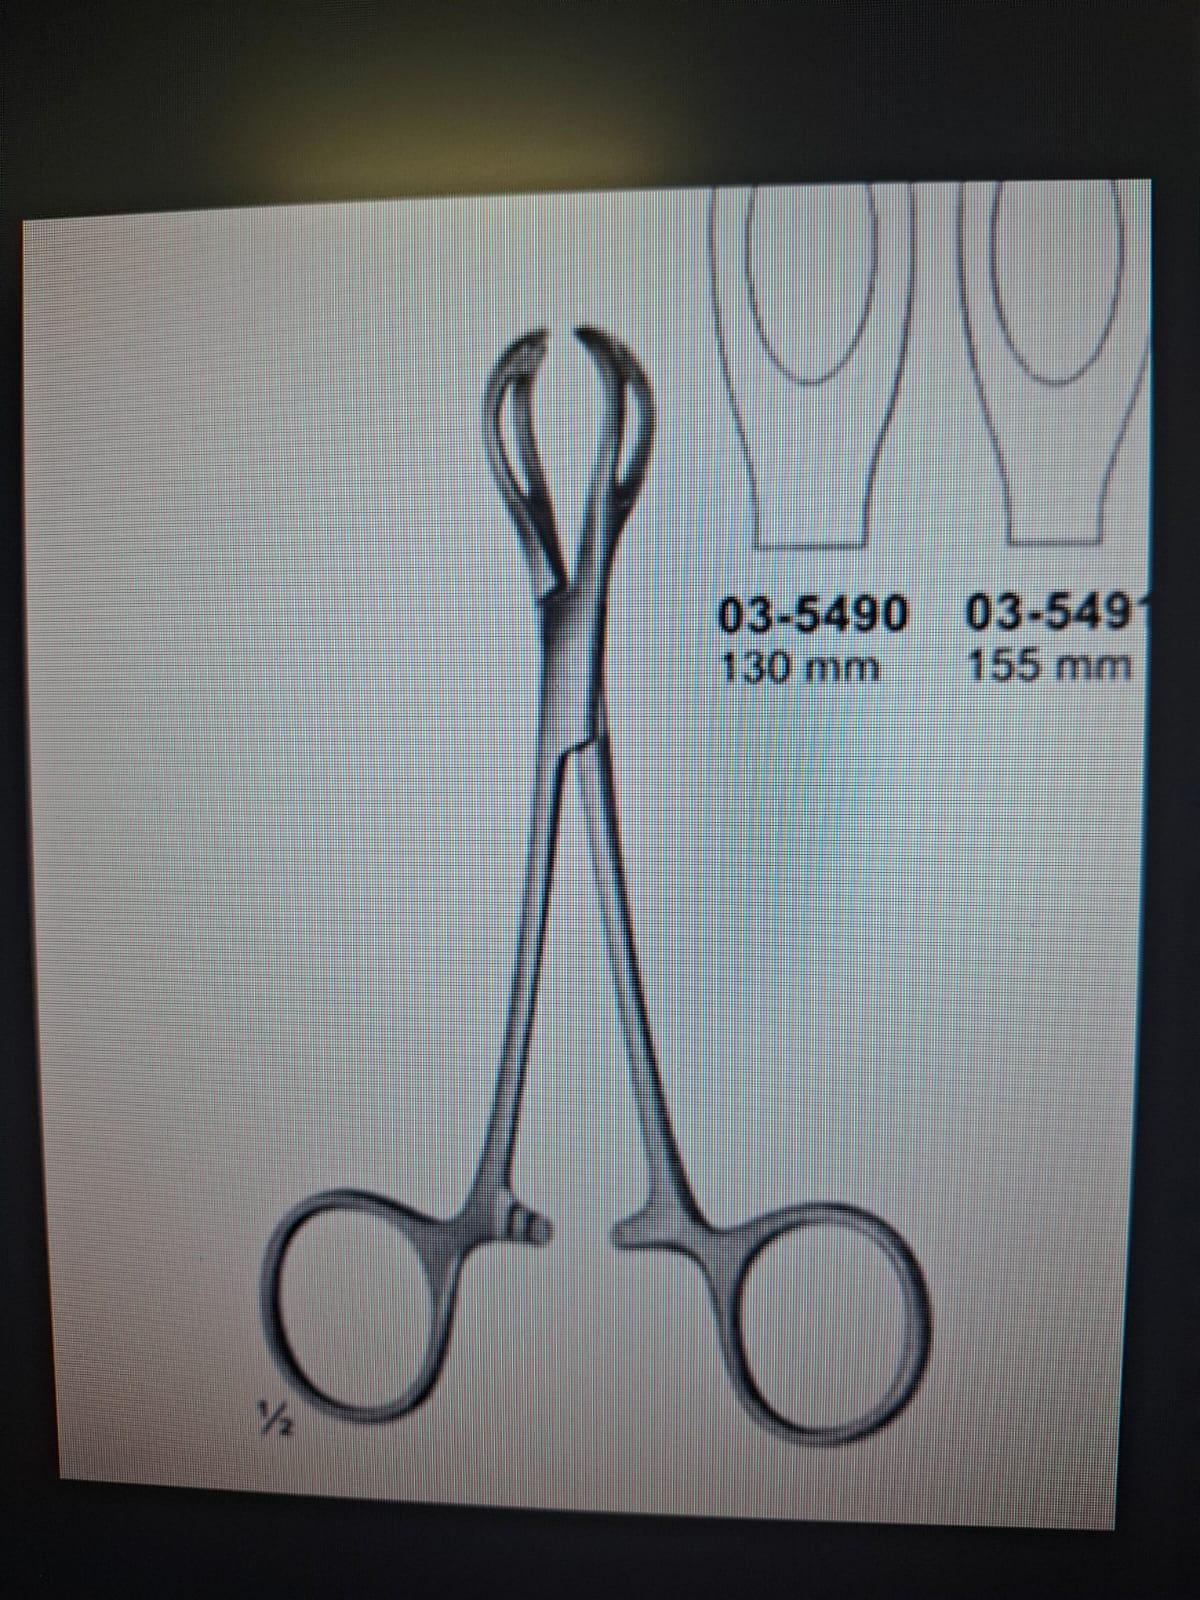Lane Tissue Forceps: (240, 325, 942, 1448)
